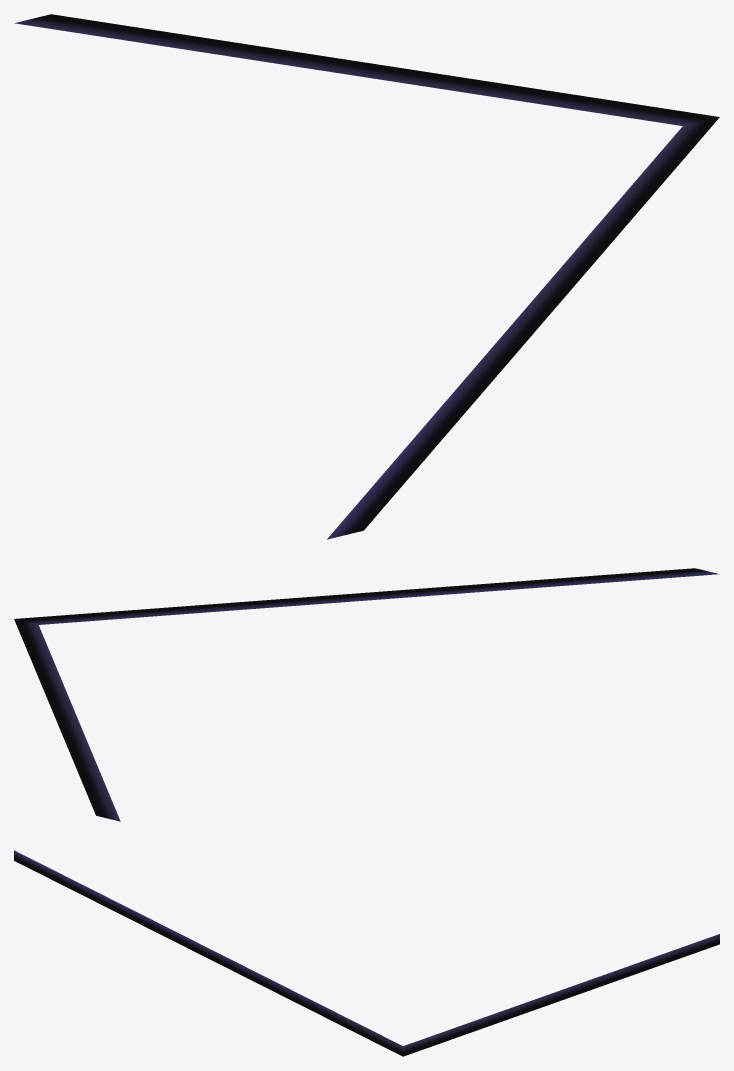
The picture shows the model from 3 angles, top to bottom: view 1: azimuth 30°, elevation 25°; view 2: azimuth 150°, elevation 25°; view 3: azimuth 270°, elevation 25°; orthographic projection. The views are drawn at different scales.
Visible parts, largest first — view 1: Joint_0_Object_0; view 2: Joint_0_Object_0; view 3: Joint_0_Object_0.
Part boxes in pixels (left/top/right/bottom): Joint_0_Object_0: left=14, top=14, right=719, bottom=539; Joint_0_Object_0: left=14, top=568, right=719, bottom=821; Joint_0_Object_0: left=14, top=850, right=719, bottom=1056.
Size of the model in its own units: 997 by 0 by 1440.
1 material, 1 textured.
